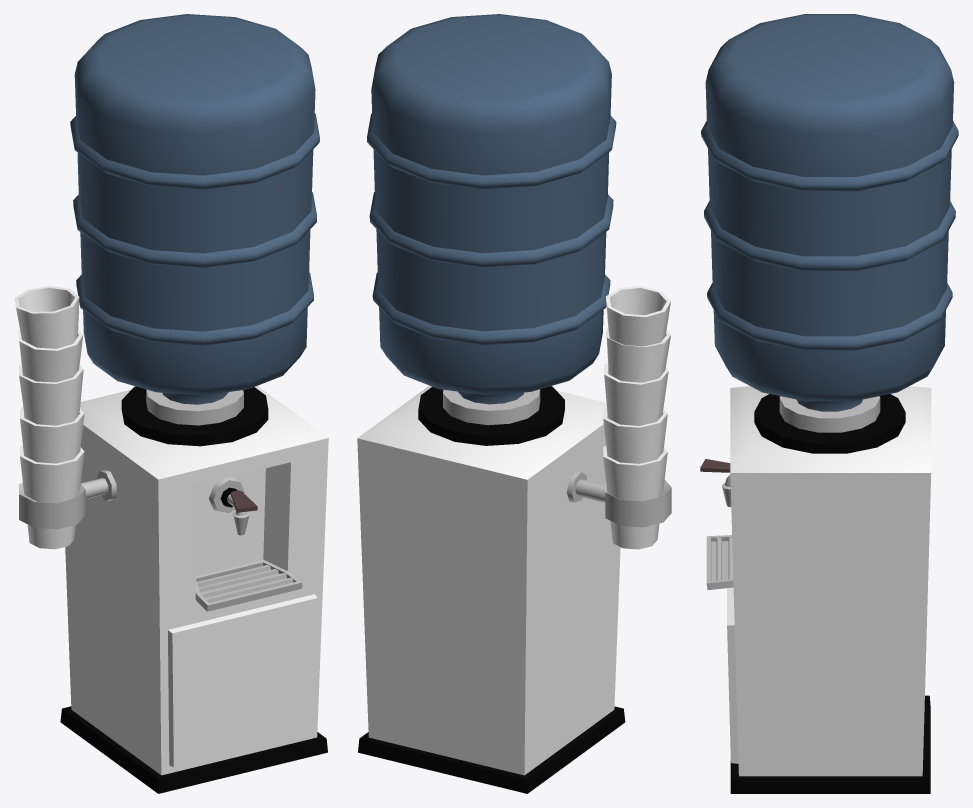
The model's file is Water dispenser.fbx.
3 views of the same model, side by side, from view 1: azimuth 30°, elevation 25°; view 2: azimuth 150°, elevation 25°; view 3: azimuth 270°, elevation 25° (orthographic). The views are drawn at different scales.
Parts seen in each view (by area): view 1: Cube_023_5, Cube_023_0, Cube_023_4, Cube_023_3, Cube_023_1, Cube_023_2; view 2: Cube_023_5, Cube_023_0, Cube_023_4, Cube_023_3, Cube_023_1; view 3: Cube_023_5, Cube_023_0, Cube_023_3, Cube_023_1, Cube_023_2.
Boxes of the visible parts, left/top/right/bottom form: Cube_023_5: left=70, top=14, right=319, bottom=404; Cube_023_0: left=65, top=386, right=328, bottom=775; Cube_023_4: left=14, top=286, right=84, bottom=549; Cube_023_3: left=60, top=386, right=327, bottom=793; Cube_023_1: left=19, top=389, right=286, bottom=598; Cube_023_2: left=81, top=478, right=302, bottom=611; Cube_023_5: left=367, top=14, right=616, bottom=404; Cube_023_0: left=357, top=385, right=620, bottom=775; Cube_023_4: left=603, top=286, right=670, bottom=549; Cube_023_3: left=358, top=386, right=625, bottom=793; Cube_023_1: left=443, top=389, right=671, bottom=527; Cube_023_5: left=701, top=14, right=958, bottom=411; Cube_023_0: left=727, top=386, right=931, bottom=776; Cube_023_3: left=730, top=394, right=930, bottom=793; Cube_023_1: left=711, top=396, right=880, bottom=581; Cube_023_2: left=706, top=475, right=733, bottom=589.
Bounding box in the file's own units: 84.31 × 194 × 65.38.
